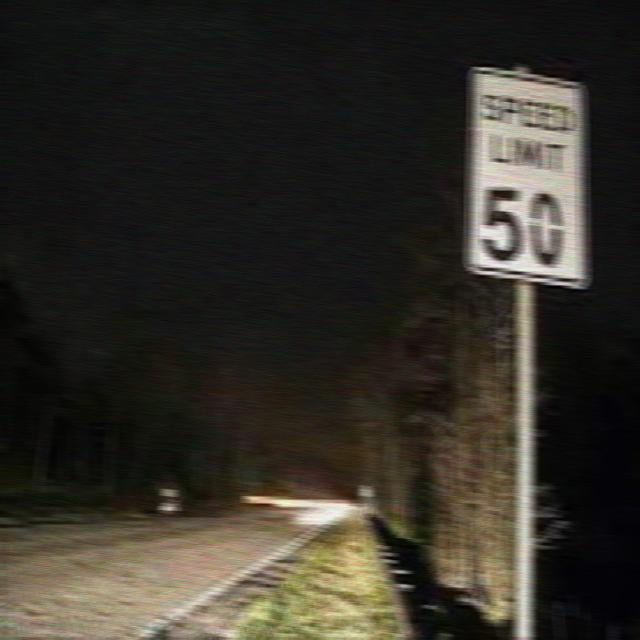speedLimit50: (466, 54, 588, 294)
